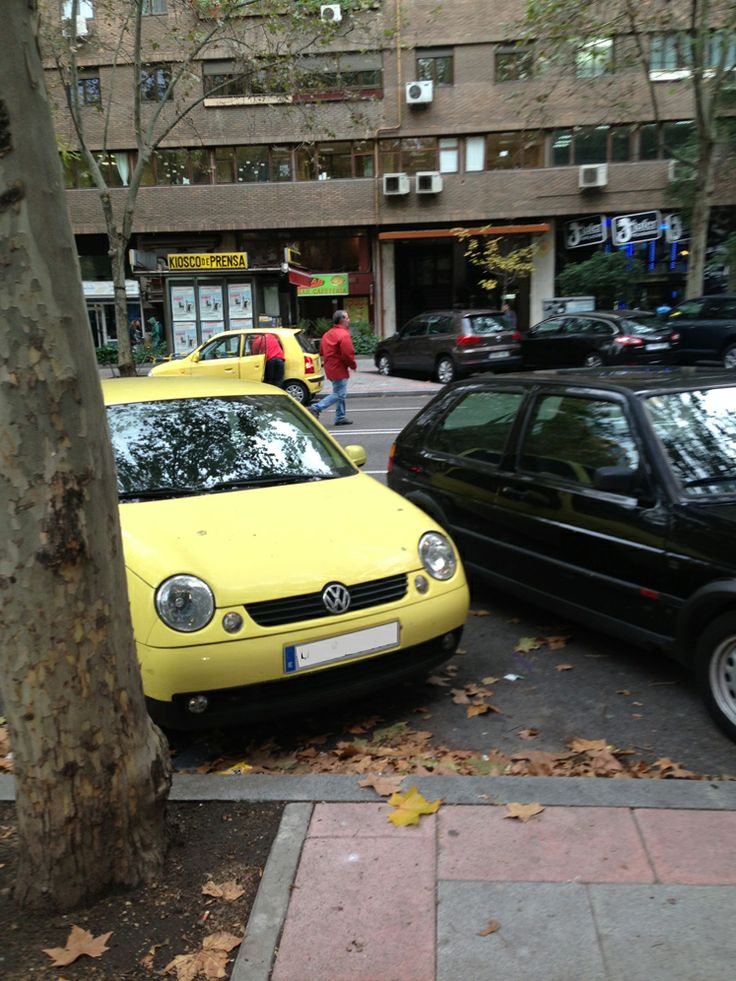car: (371, 370, 735, 741), (88, 365, 474, 706), (141, 316, 324, 409), (514, 298, 673, 374), (366, 306, 520, 382), (649, 291, 733, 375)
